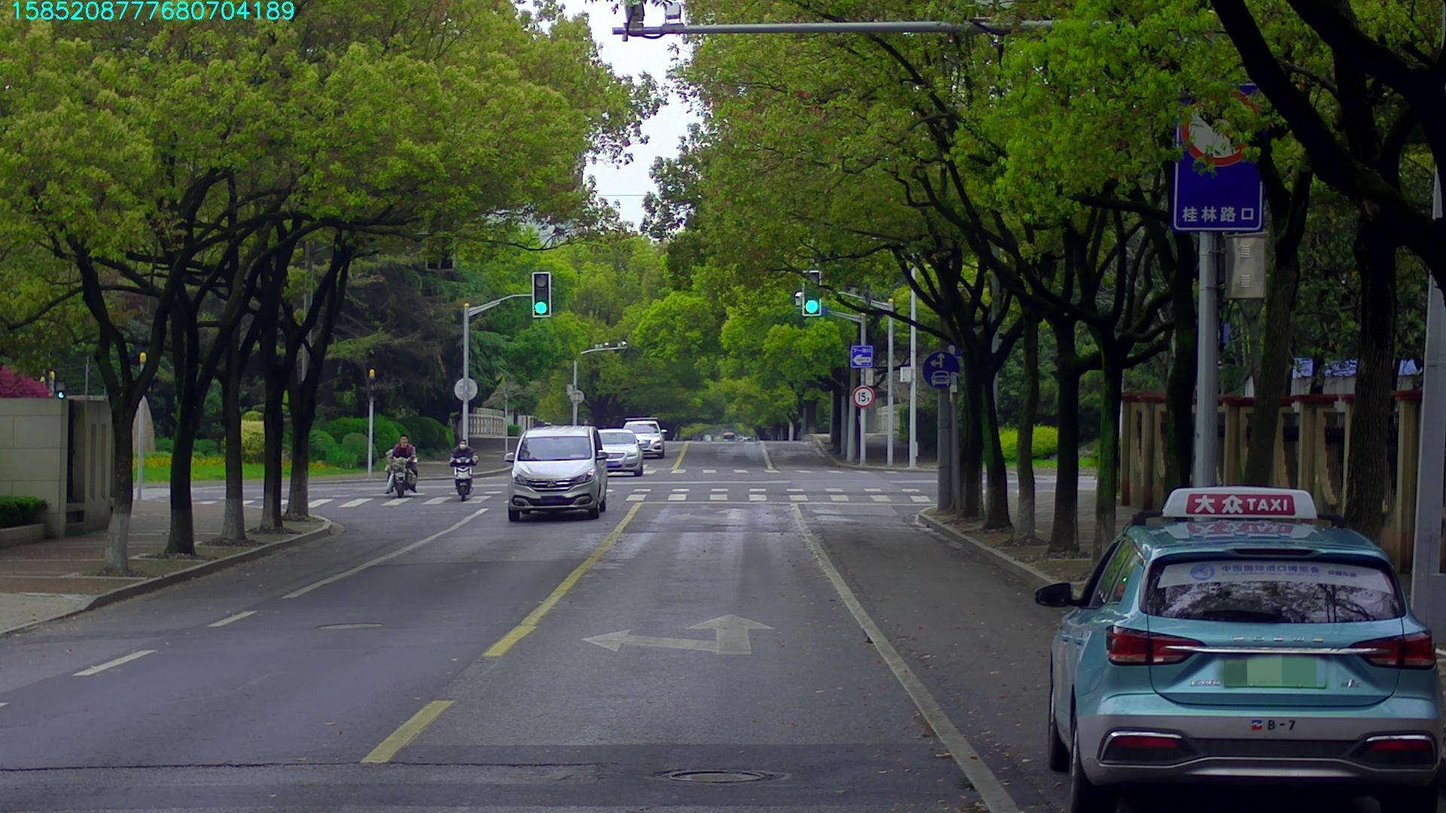green: (532, 273, 549, 317), (804, 271, 819, 314)
